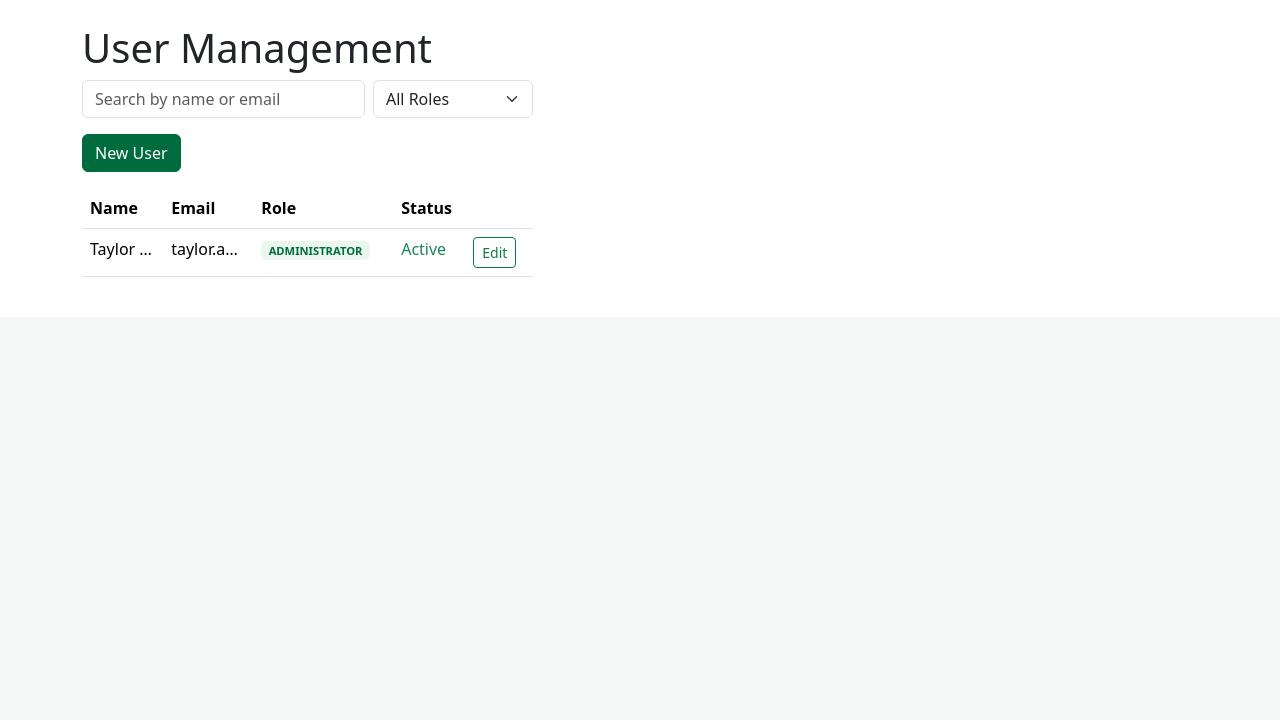
UserManagement - create form validation (UI-06) › keeps Save disabled until Name, Email, and a valid Initial Password are provided
Click the button "New User" at (131, 153), box x1=82 y1=134 x2=181 y2=172
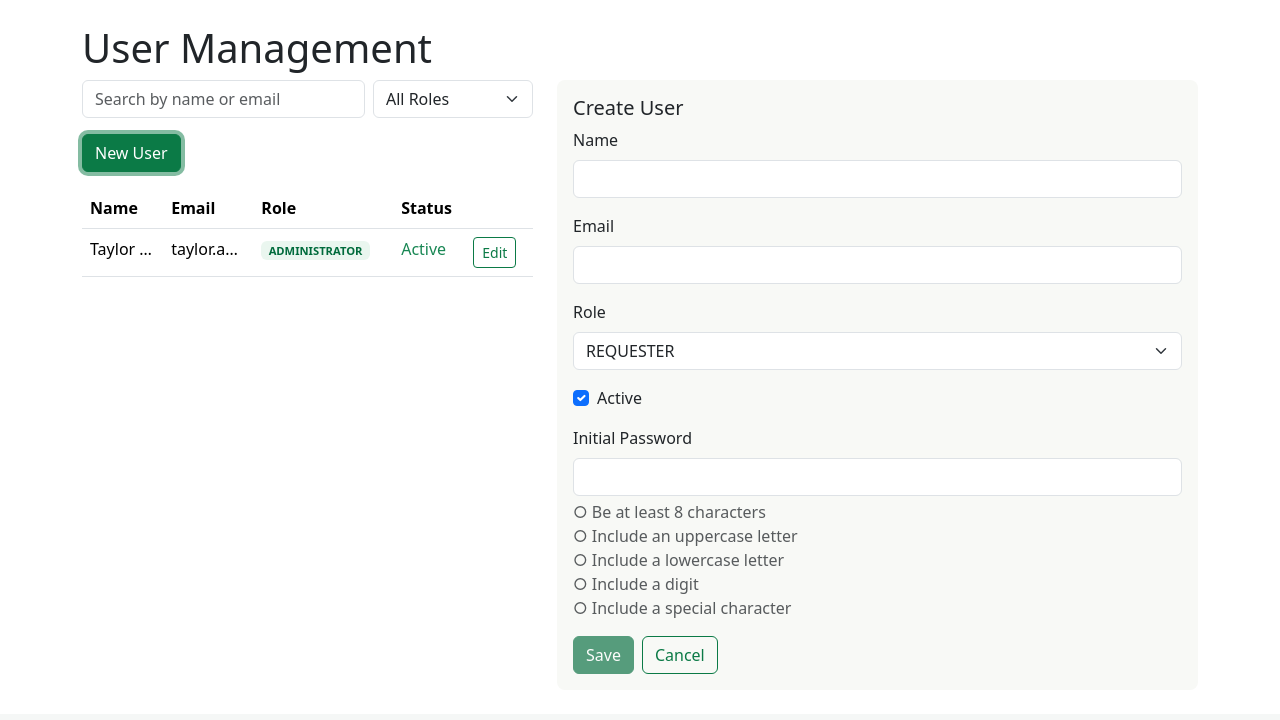
Expected: the button "Save" is disabled, x1=573 y1=636 x2=634 y2=674
Type "New Person" into the field labelled "Name" at (878, 179), box x1=573 y1=160 x2=1182 y2=198
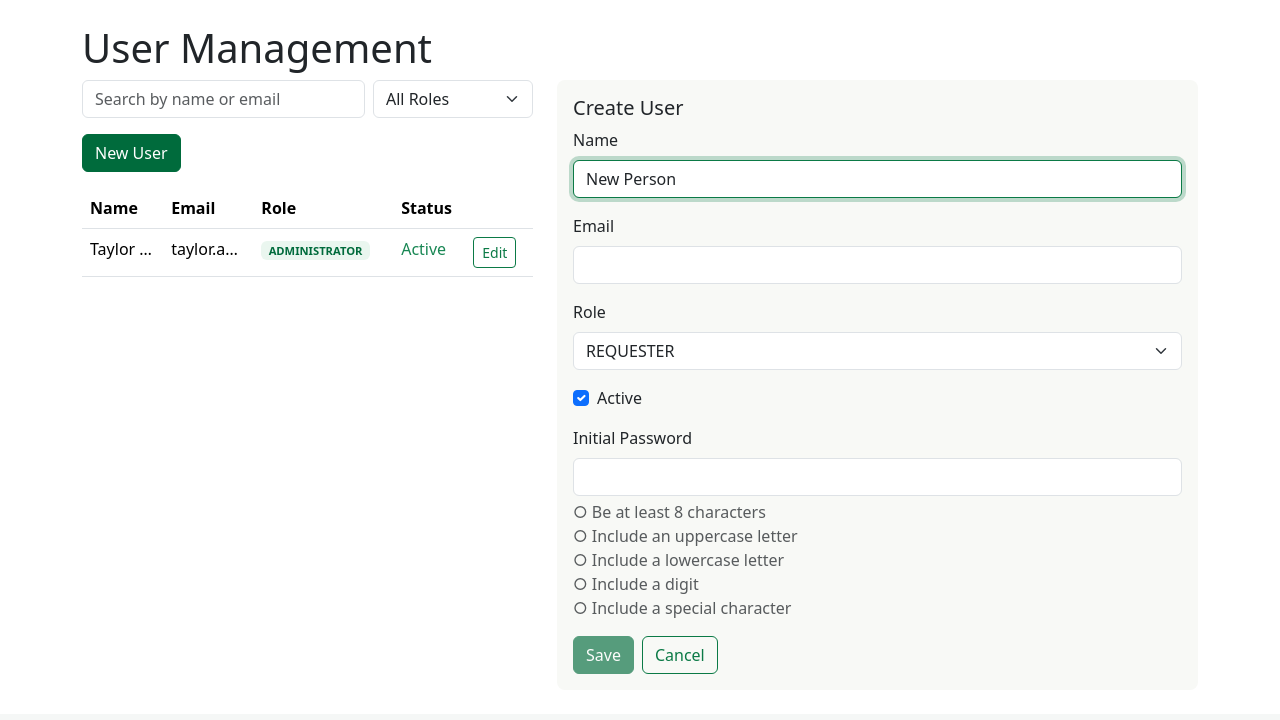
Type "new.person@example.com" into the field labelled "Email" at (878, 265), box x1=573 y1=246 x2=1182 y2=284
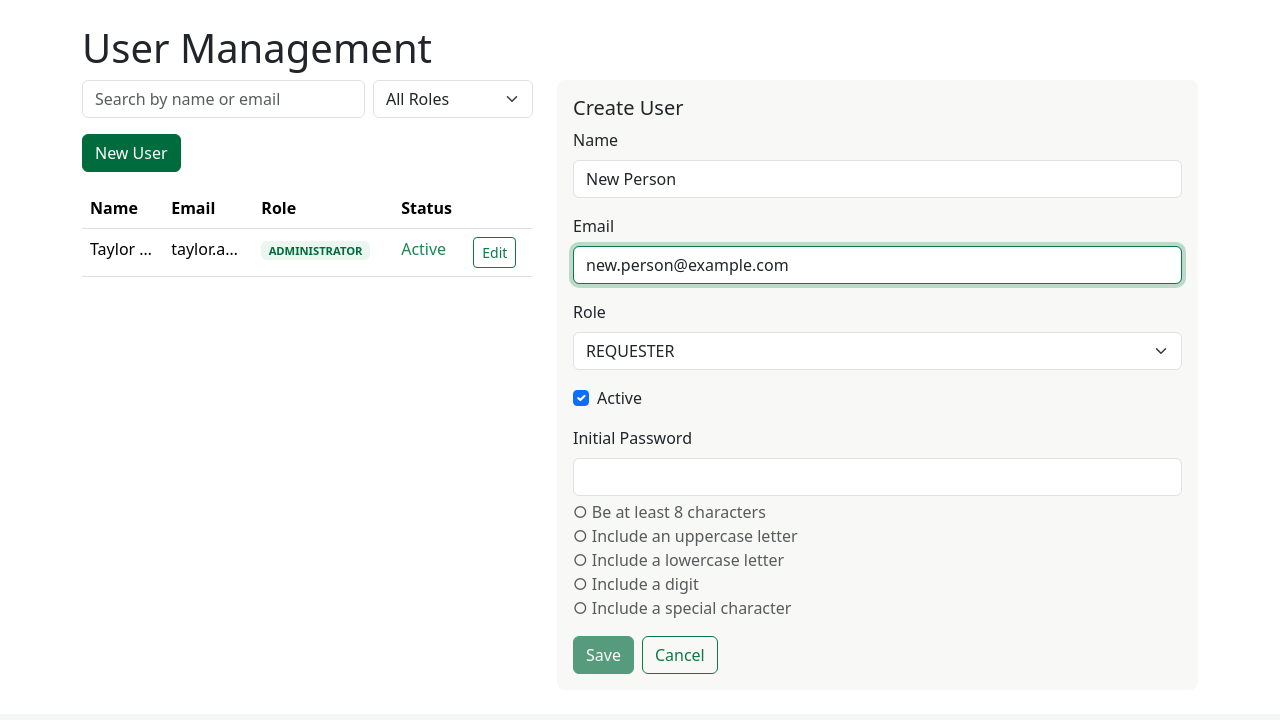
Expected: the button "Save" is disabled, x1=573 y1=636 x2=634 y2=674
Type "BrandNewPass9!" into the password field labelled "Initial Password" at (878, 477), box x1=573 y1=458 x2=1182 y2=496
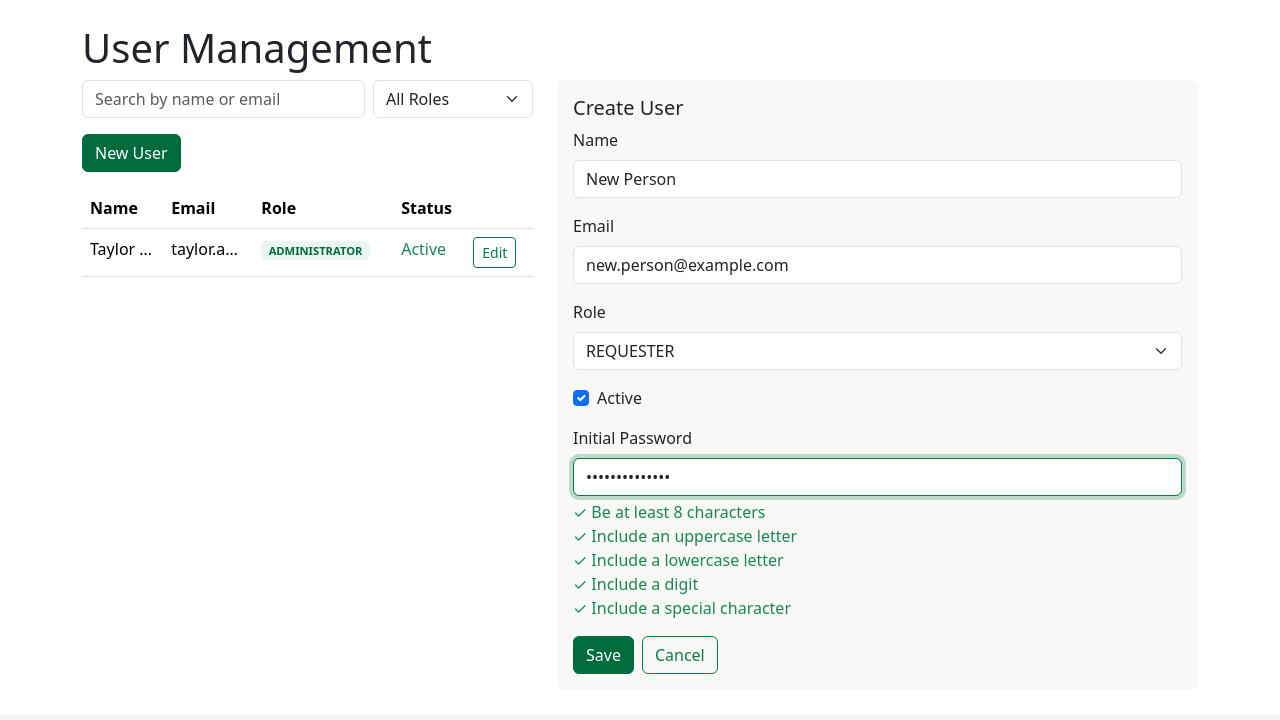
Expected: the button "Save" is enabled, x1=573 y1=636 x2=634 y2=674
